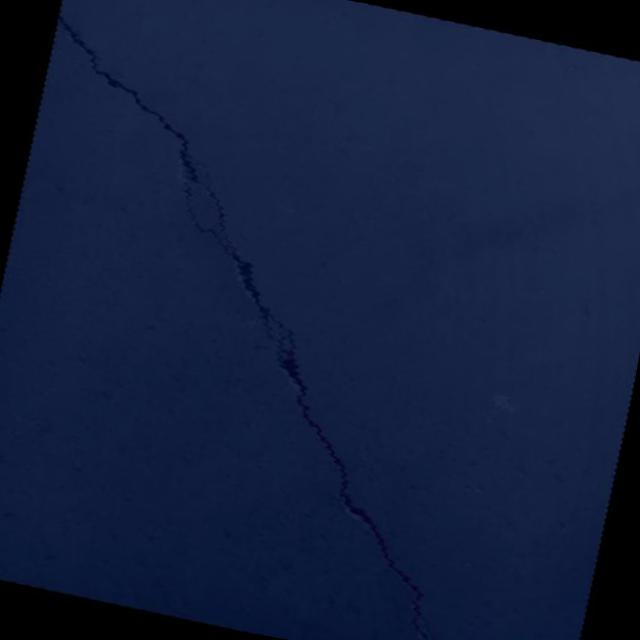crack: (0, 9, 583, 640)
